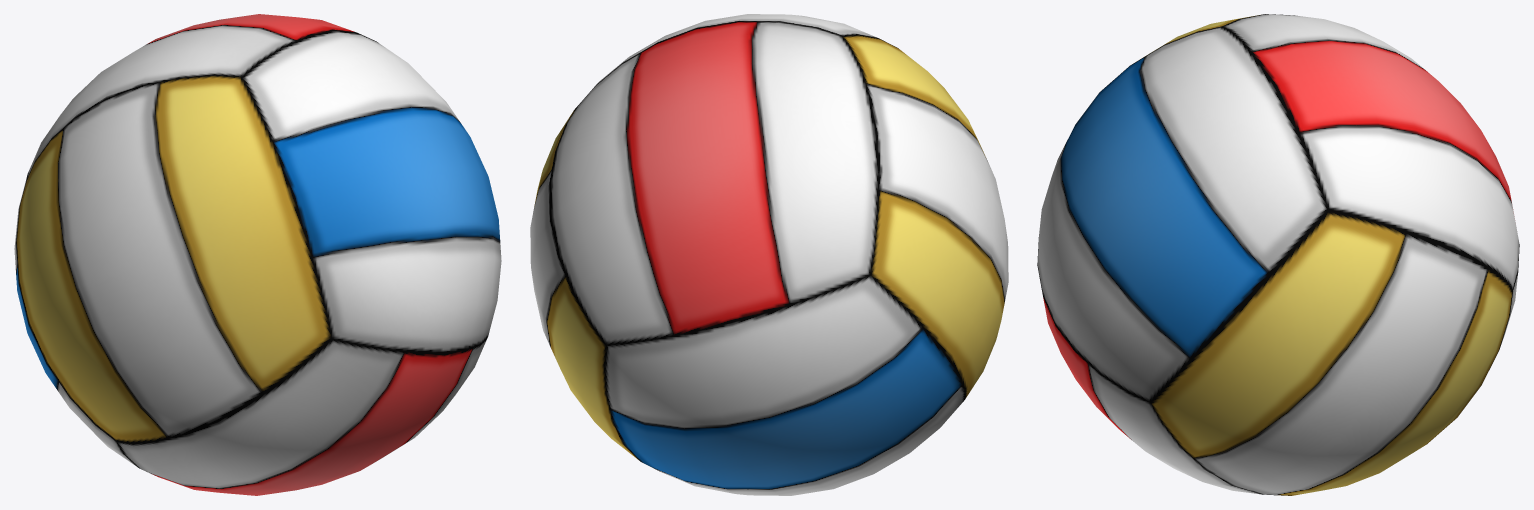
File: ENV2010024.fbx
3 views of the same model, side by side, from view 1: azimuth 30°, elevation 25°; view 2: azimuth 150°, elevation 25°; view 3: azimuth 270°, elevation 25° (orthographic).
Parts seen in each view (by area): view 1: smENV2010024; view 2: smENV2010024; view 3: smENV2010024.
Part boxes in pixels (x1,y1,x2,y2): smENV2010024: (14,14,501,495); smENV2010024: (530,14,1008,495); smENV2010024: (1037,14,1519,495).
Bounding box in the file's own units: 13.17 × 13.19 × 13.23.
1 material, 1 textured.
